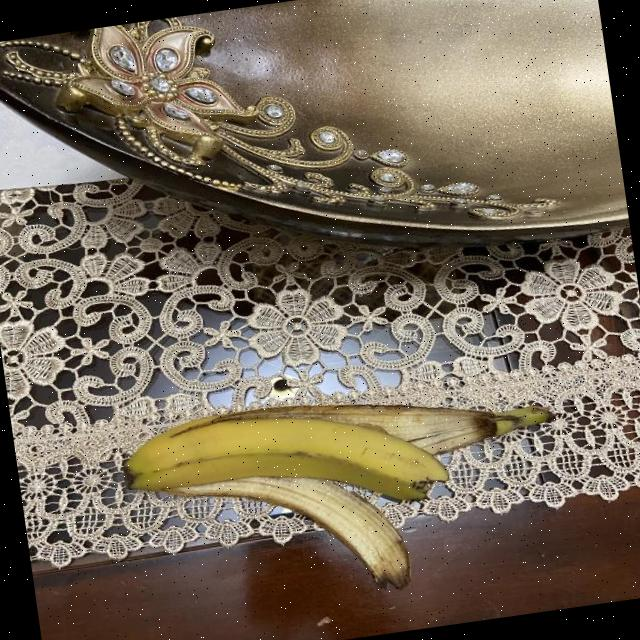banana-peel: (115, 366, 572, 624), (116, 383, 453, 542)
